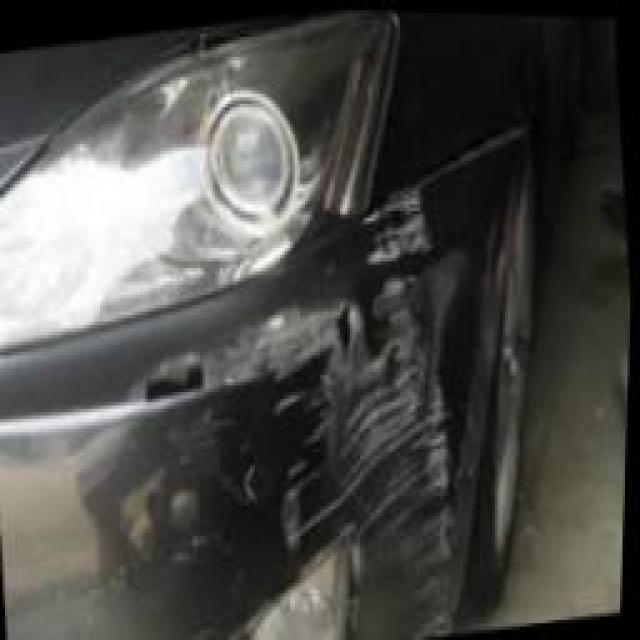Bumper: (142, 194, 502, 640)
